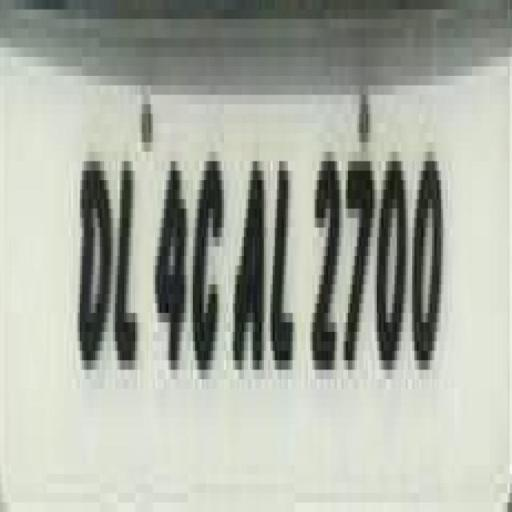number plate: (0, 22, 492, 488)
